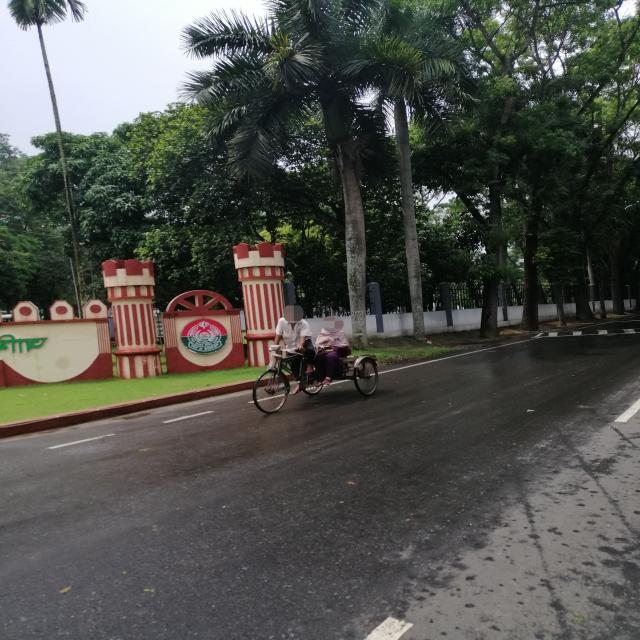Van: (230, 349, 399, 421)
